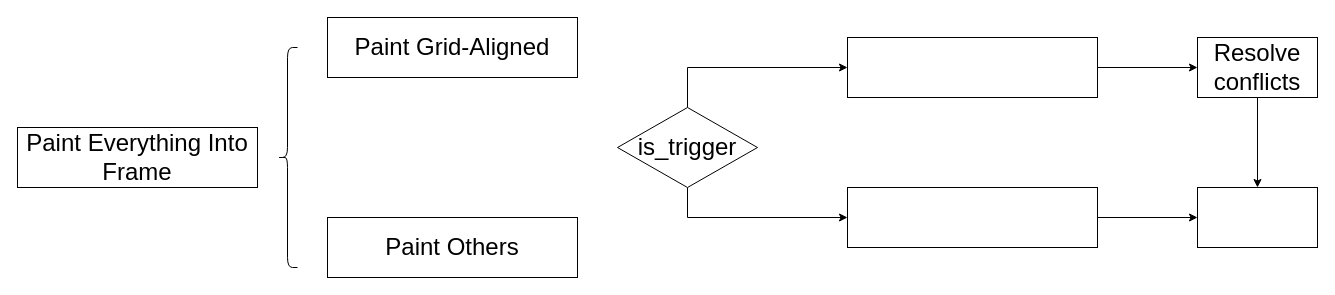
The diagram is 1335 pixels wide and 295 high, and some of its shapes have lost their labels. The shapes that lost their labels are listed below. From the top down, each one's centre as x and y in pixels, then its label:
At (972,67): "Strong Collision".
At (972,217): "Weak Collision will only store the event".
At (1257,217): "Event".
